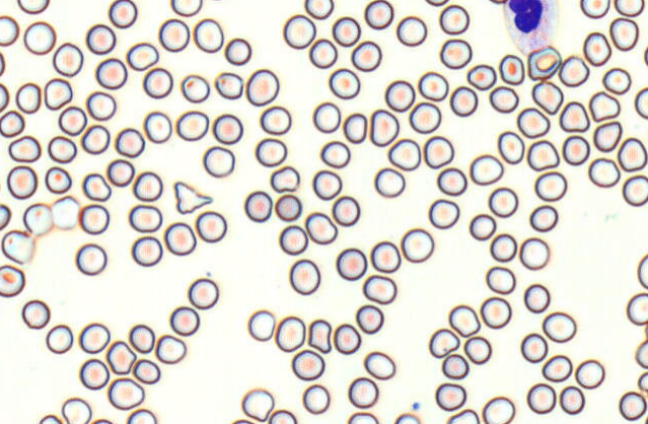GRAN: (502, 0, 562, 54)
PLT: (412, 401, 421, 410)
RBC: (245, 68, 279, 106), (107, 377, 144, 410), (527, 45, 561, 80), (400, 228, 434, 262), (1, 229, 34, 264), (23, 20, 56, 55), (289, 258, 320, 295), (369, 108, 399, 146), (163, 221, 196, 255), (283, 14, 316, 48), (241, 388, 274, 421), (531, 80, 563, 114), (387, 138, 421, 170), (469, 153, 503, 185), (275, 315, 305, 351), (305, 211, 337, 244), (448, 304, 480, 337), (335, 247, 367, 280), (202, 145, 235, 177), (75, 242, 107, 275), (291, 349, 325, 380), (516, 107, 550, 138), (52, 42, 83, 76), (542, 311, 576, 342), (6, 165, 37, 199), (175, 110, 209, 141), (158, 18, 189, 52), (362, 274, 397, 304), (617, 137, 647, 172), (187, 277, 219, 309), (527, 139, 559, 171), (195, 210, 227, 242), (409, 101, 441, 133), (95, 57, 127, 89), (480, 296, 511, 329), (22, 202, 53, 235), (534, 170, 567, 201), (370, 240, 401, 273), (423, 135, 454, 168), (439, 38, 472, 69), (384, 79, 415, 112), (106, 340, 136, 374), (609, 17, 639, 51), (193, 18, 223, 52), (51, 195, 80, 230), (558, 55, 589, 87), (78, 322, 110, 353), (328, 68, 360, 99), (559, 100, 590, 132), (519, 237, 549, 270), (583, 31, 611, 66), (374, 167, 405, 198), (428, 198, 459, 229), (131, 235, 162, 266), (85, 23, 116, 54), (396, 15, 427, 46), (142, 67, 173, 98), (212, 113, 243, 144), (79, 358, 109, 390), (588, 157, 620, 187), (526, 382, 556, 414), (588, 91, 620, 121), (348, 376, 378, 408), (255, 137, 287, 167), (259, 105, 291, 135), (43, 77, 72, 110), (143, 110, 172, 143), (128, 204, 162, 232), (488, 186, 518, 217), (428, 328, 459, 358), (169, 305, 199, 336), (278, 224, 308, 255), (312, 169, 342, 200), (155, 334, 186, 364), (114, 127, 145, 157), (574, 359, 605, 389), (79, 203, 109, 234), (351, 40, 381, 71), (417, 71, 448, 101), (363, 350, 395, 379), (312, 101, 341, 133), (593, 120, 622, 152), (126, 42, 158, 71), (497, 130, 524, 164), (132, 171, 162, 201), (439, 4, 469, 34), (80, 124, 110, 154), (435, 382, 466, 411), (331, 195, 360, 226), (436, 167, 467, 196), (58, 105, 87, 136), (449, 85, 478, 116), (85, 91, 116, 120), (247, 309, 275, 341), (244, 190, 272, 222), (482, 396, 515, 423), (8, 135, 41, 162), (485, 265, 515, 294), (308, 38, 337, 68), (364, 0, 394, 29), (21, 299, 50, 329), (541, 354, 572, 382), (302, 383, 330, 414), (333, 323, 361, 354), (562, 134, 590, 165), (106, 158, 135, 187), (82, 172, 111, 201), (180, 74, 209, 103), (520, 332, 548, 362), (307, 318, 331, 353), (45, 324, 73, 354), (355, 304, 383, 334), (320, 140, 350, 168), (332, 16, 360, 46), (0, 264, 25, 297), (618, 391, 646, 420), (463, 335, 491, 364), (489, 233, 517, 262), (108, 0, 137, 28), (489, 85, 518, 113), (529, 204, 558, 232), (47, 135, 76, 163), (214, 71, 243, 99), (270, 165, 300, 192), (128, 323, 155, 353), (523, 283, 550, 313), (15, 82, 41, 113), (498, 54, 524, 85), (622, 174, 647, 206), (274, 193, 302, 221), (602, 67, 631, 94), (61, 397, 91, 423), (466, 64, 496, 90), (224, 37, 251, 65), (559, 385, 585, 414), (343, 112, 367, 143), (469, 213, 496, 240), (44, 166, 71, 193), (132, 358, 160, 384), (441, 353, 469, 379), (626, 292, 647, 325), (0, 109, 24, 137), (0, 15, 19, 46), (304, 0, 334, 19), (580, 0, 610, 18), (614, 0, 644, 17), (171, 0, 202, 16), (446, 408, 479, 423), (126, 408, 157, 423), (17, 0, 49, 14), (634, 87, 647, 119), (268, 409, 297, 423), (347, 411, 378, 423), (637, 253, 647, 289), (635, 339, 647, 368), (0, 203, 11, 230), (394, 412, 420, 423), (0, 82, 9, 111), (637, 371, 647, 393), (38, 414, 62, 423), (425, 0, 448, 6), (0, 51, 5, 76), (90, 418, 113, 423), (231, 418, 254, 423), (643, 45, 648, 66), (489, 0, 507, 4), (209, 0, 230, 1)
Schistocyte: (173, 181, 213, 214)
